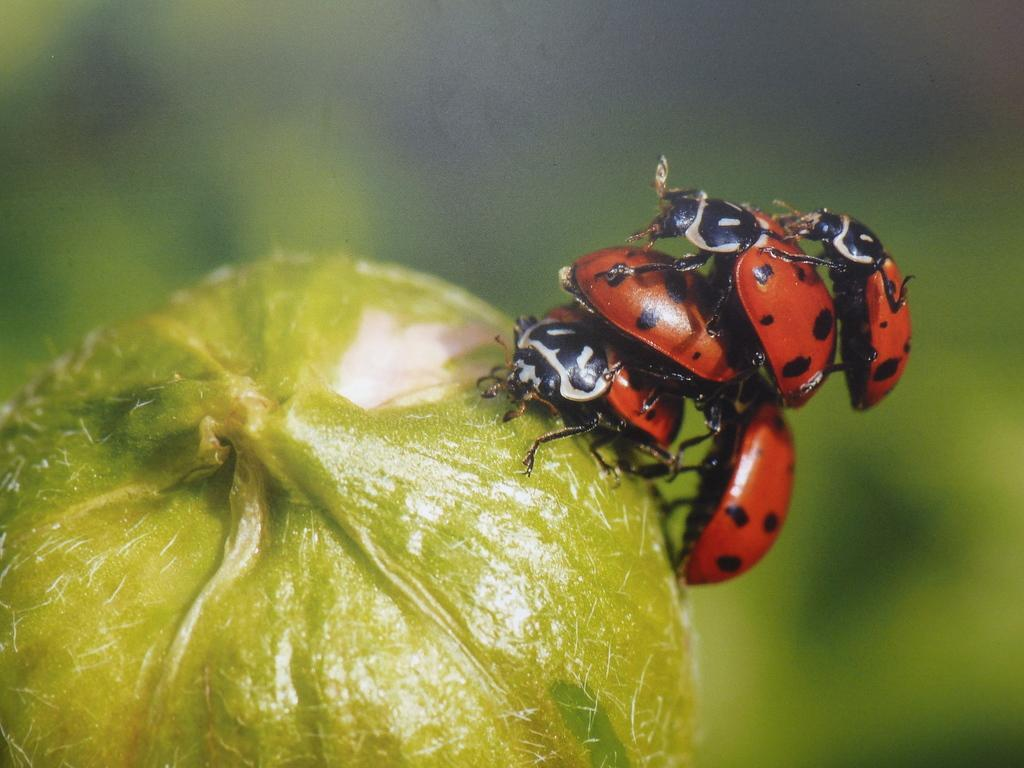ladybug: (615, 153, 843, 411), (473, 299, 689, 487), (559, 241, 763, 437), (761, 197, 921, 413), (661, 359, 801, 591)
